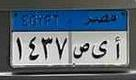1: (15, 35, 25, 61)
3: (40, 35, 53, 61)
4: (27, 35, 39, 62)
7: (55, 35, 67, 60)
alif: (113, 35, 121, 61)
saad: (73, 40, 90, 61)
yaa: (91, 39, 108, 60)
